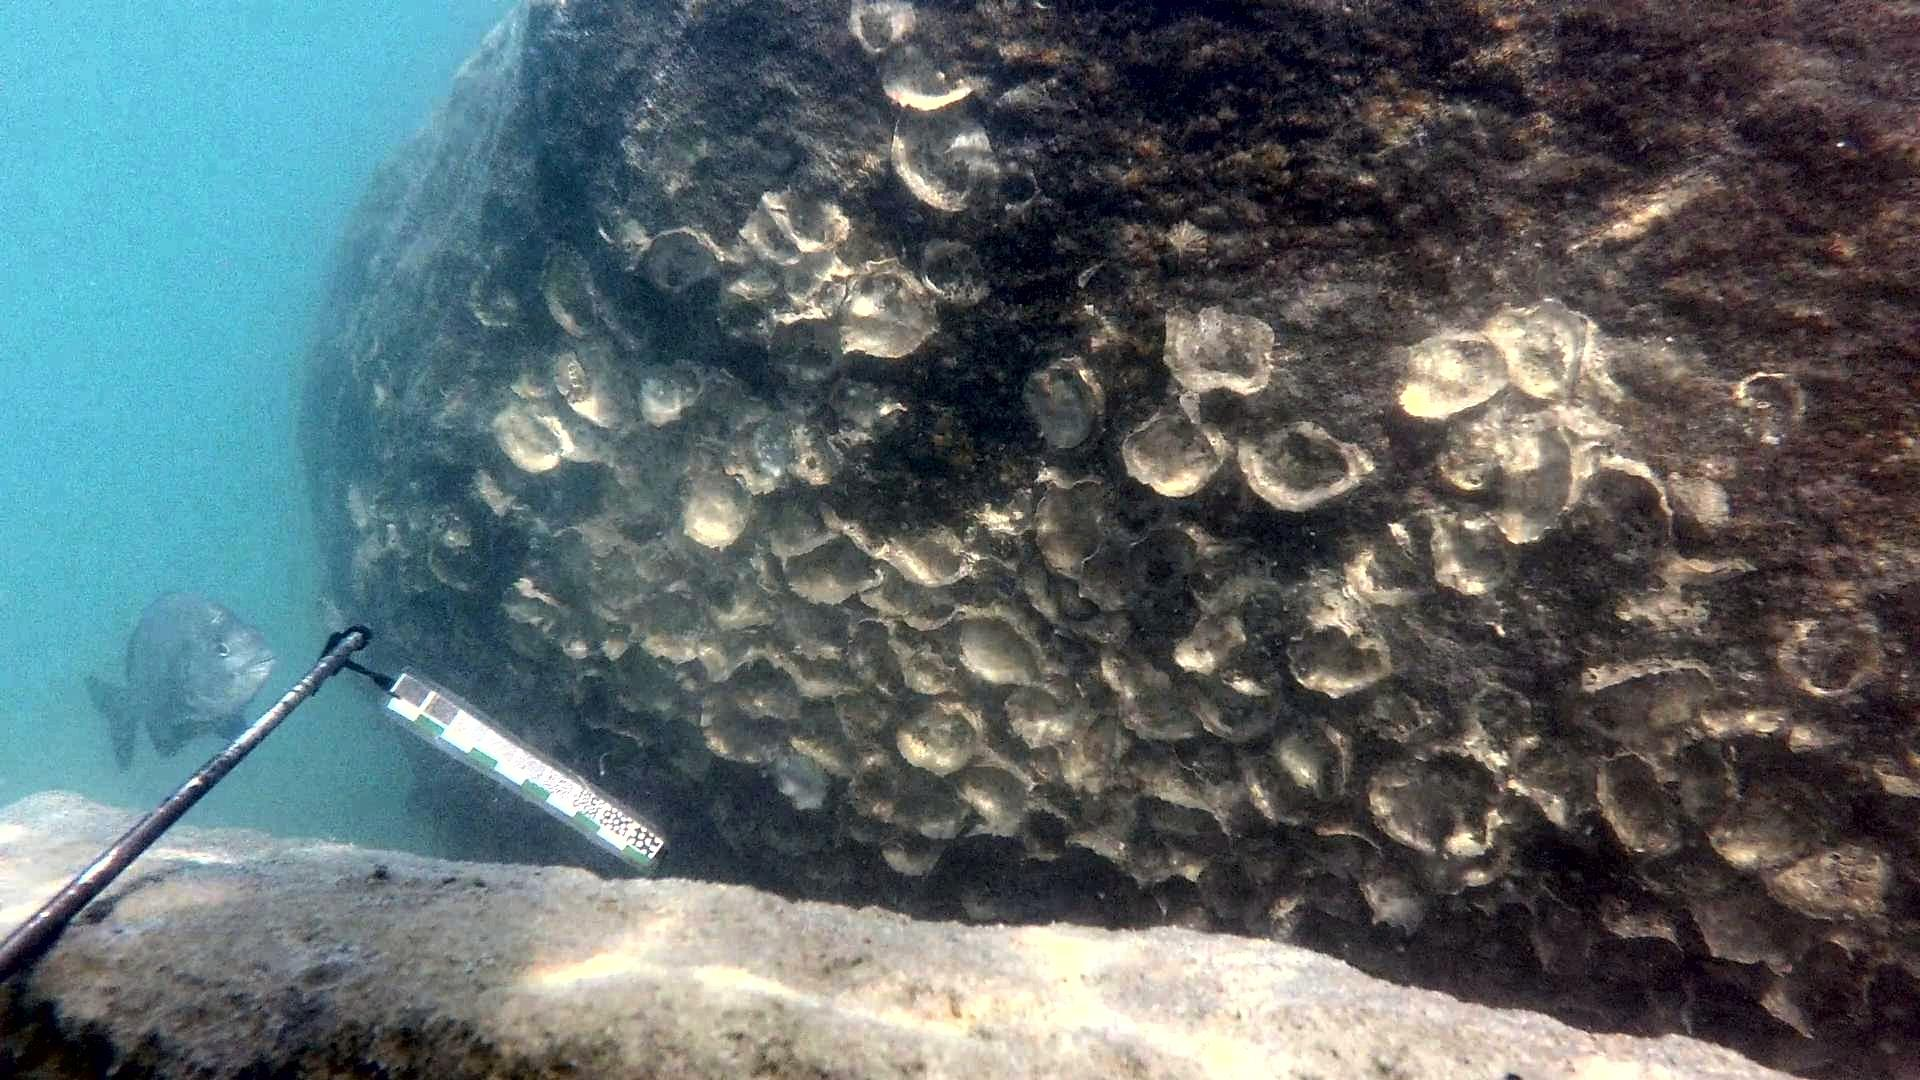acanthopagrus palmaris: (63, 578, 282, 778)
